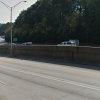Tree: (17, 1, 100, 33)
